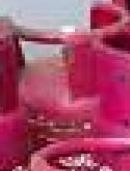cylinder: (1, 1, 130, 171)
